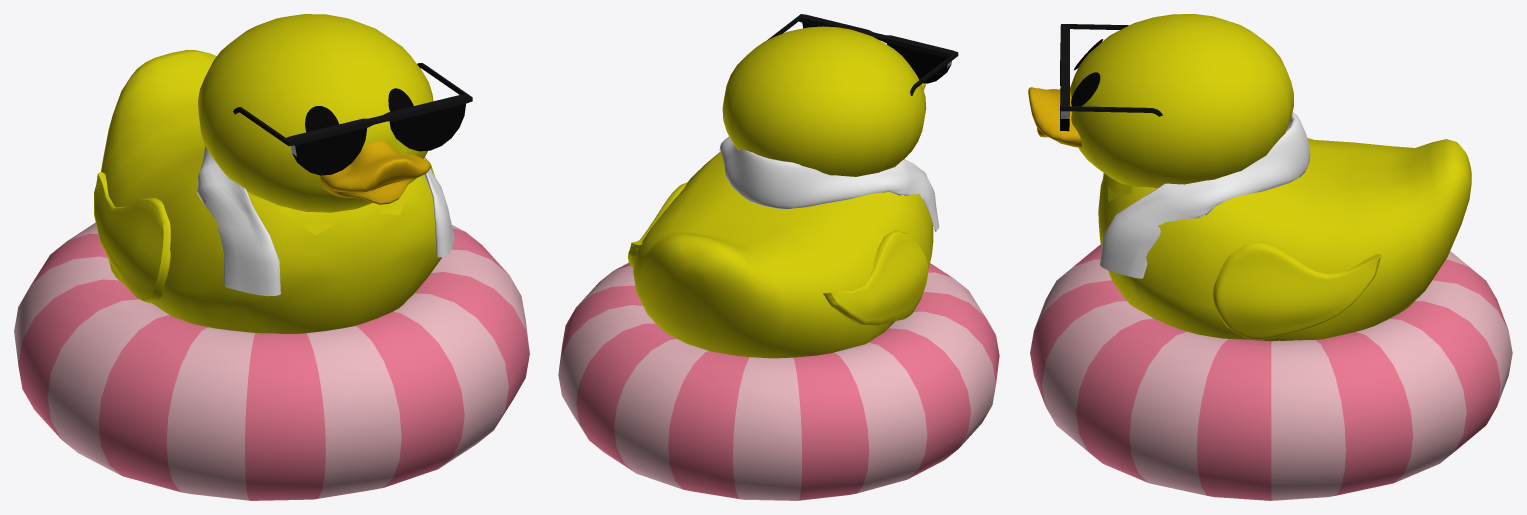
File: Tube Rubber Duck 1.fbx
The picture shows the model from 3 angles, left to right: view 1: azimuth 30°, elevation 25°; view 2: azimuth 150°, elevation 25°; view 3: azimuth 270°, elevation 25°; orthographic projection. The views are drawn at different scales.
Parts seen in each view (by area): view 1: pTorus3, polySurface72, polySurface74, polySurface78, polySurface69, pCube17, polySurface73, polySurface76; view 2: pTorus3, polySurface72, polySurface74, polySurface78, pCube17, polySurface69, pCube16; view 3: pTorus3, polySurface72, polySurface74, pCube16, polySurface78, polySurface69, polySurface73, polySurface71.
Part boxes in pixels (x1,y1,x2,y2): pTorus3: (14, 222, 529, 500); polySurface72: (101, 49, 441, 333); polySurface74: (198, 14, 433, 212); polySurface78: (197, 146, 454, 296); polySurface69: (233, 63, 472, 175); pCube17: (94, 172, 170, 303); polySurface73: (320, 141, 431, 204); polySurface76: (305, 106, 338, 132); pTorus3: (558, 263, 999, 500); polySurface72: (633, 151, 933, 358); polySurface74: (722, 26, 926, 176); polySurface78: (719, 136, 939, 231); pCube17: (823, 230, 928, 325); polySurface69: (768, 14, 958, 95); pCube16: (628, 182, 687, 268); pTorus3: (1030, 244, 1512, 500); polySurface72: (1098, 138, 1471, 341); polySurface74: (1070, 14, 1293, 187); pCube16: (1213, 241, 1381, 339); polySurface78: (1100, 112, 1310, 278); polySurface69: (1060, 24, 1162, 131); polySurface73: (1028, 87, 1081, 147); polySurface71: (1071, 72, 1100, 106).
Size of the model in its own units: 3.61 by 3.28 by 3.62.
